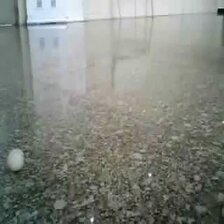w: (5, 146, 26, 173)
